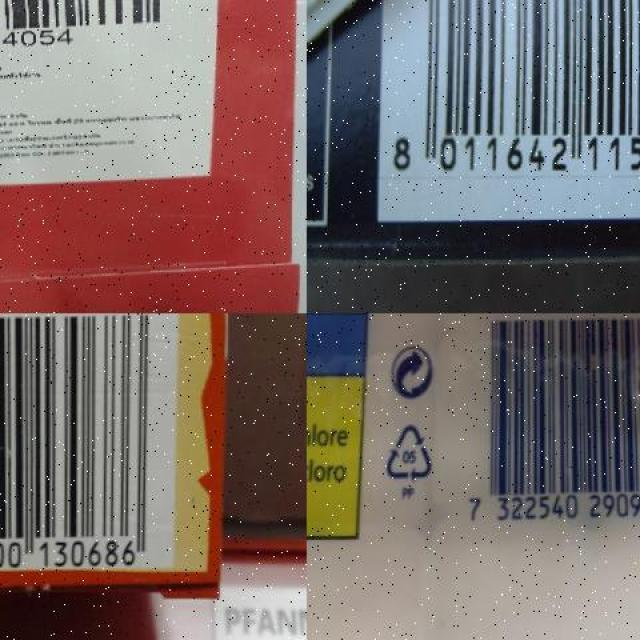Barcode: (373, 0, 640, 224), (0, 313, 179, 576), (454, 313, 640, 550), (0, 0, 177, 50)
